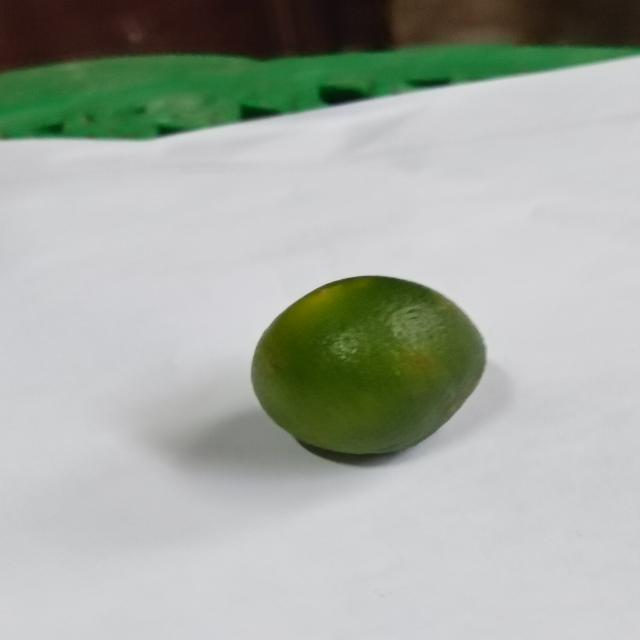heathy: (251, 276, 489, 458)
